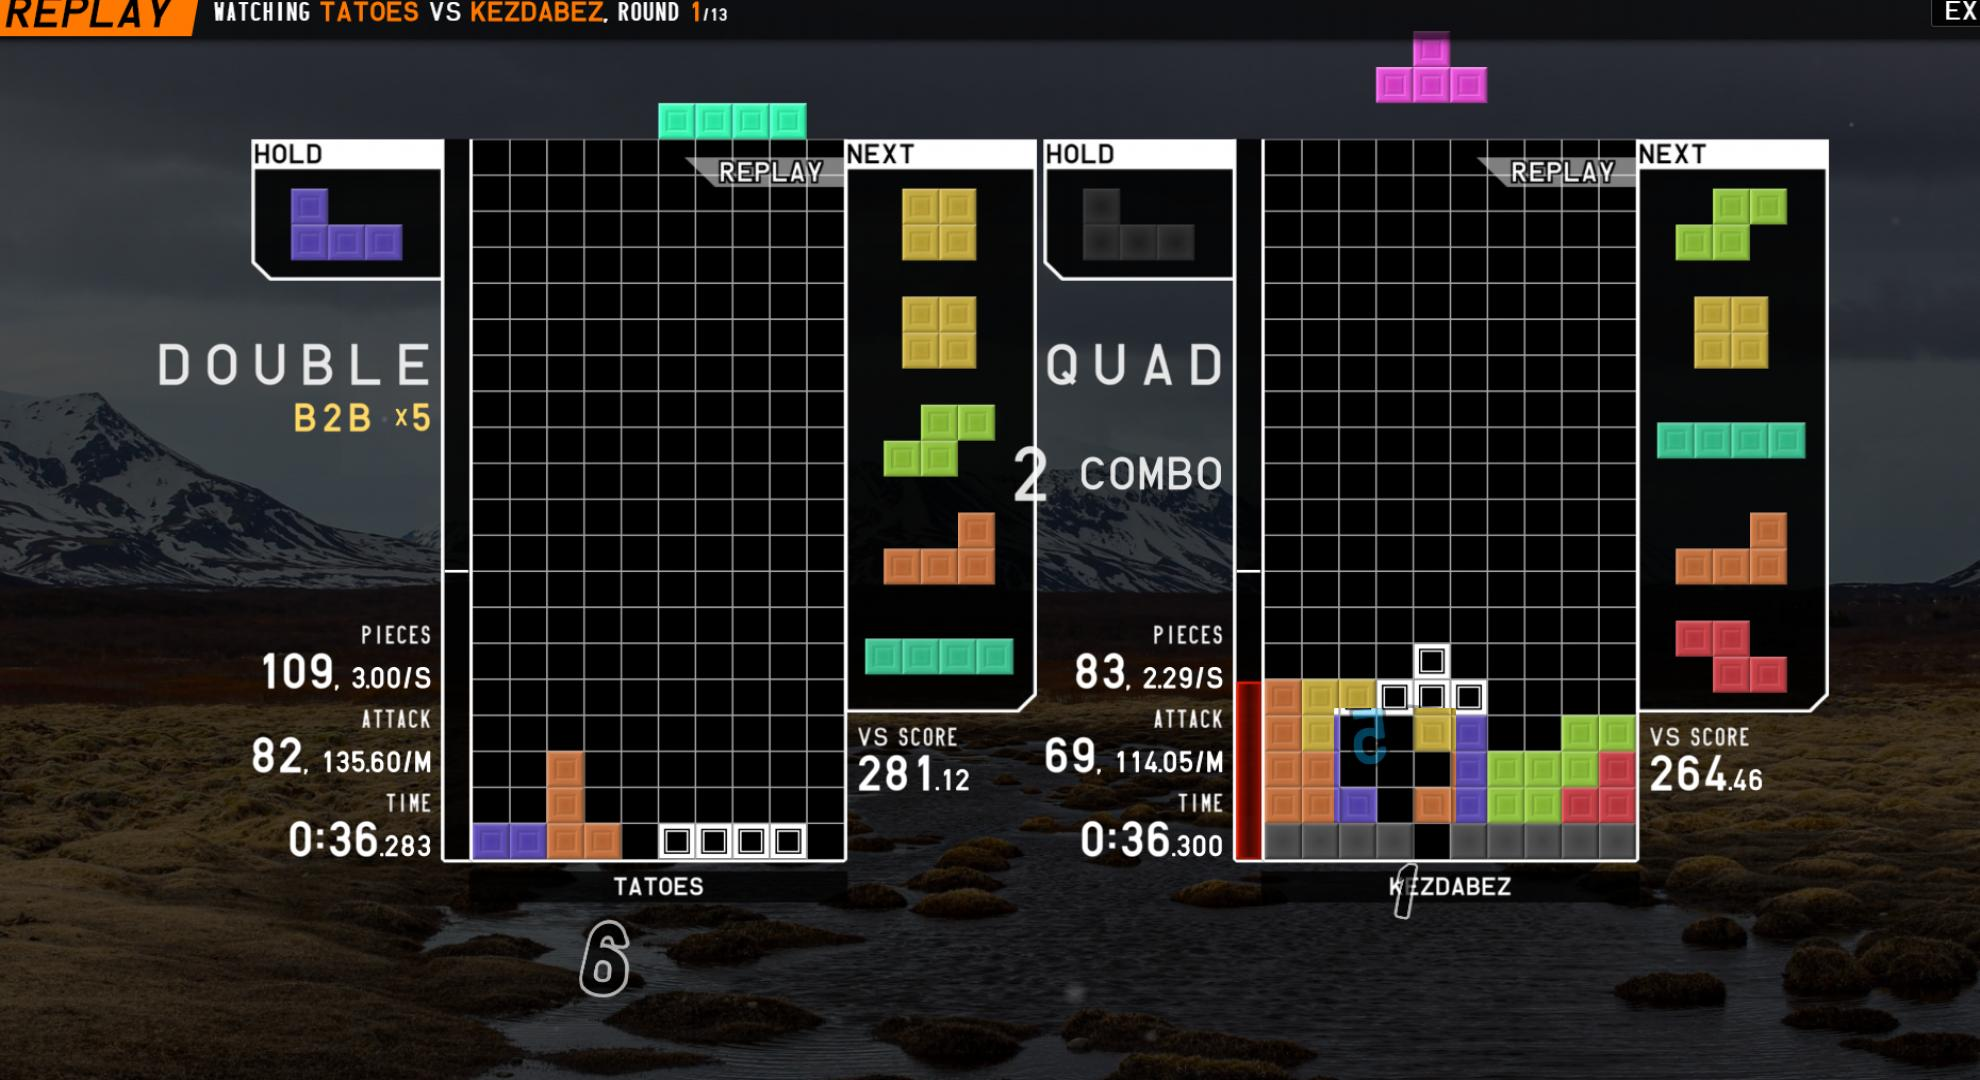tspin: (1334, 708, 1456, 823)
